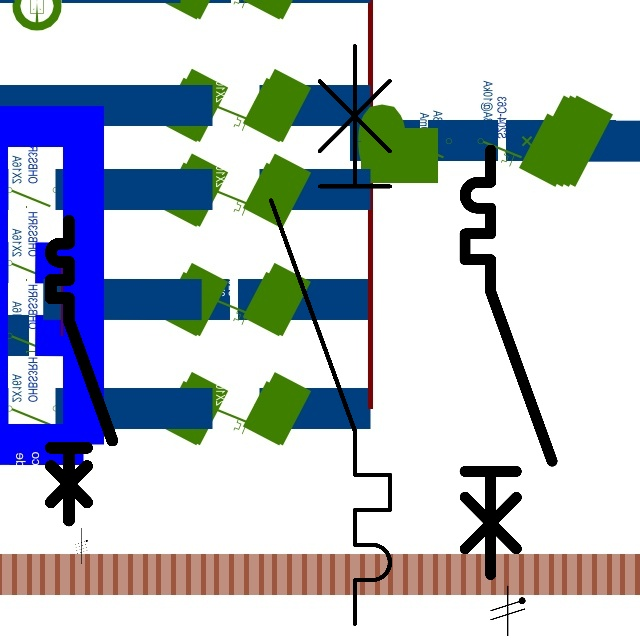interruptor_termomagnetico: (256, 31, 405, 639), (454, 139, 563, 585), (43, 213, 120, 528)
